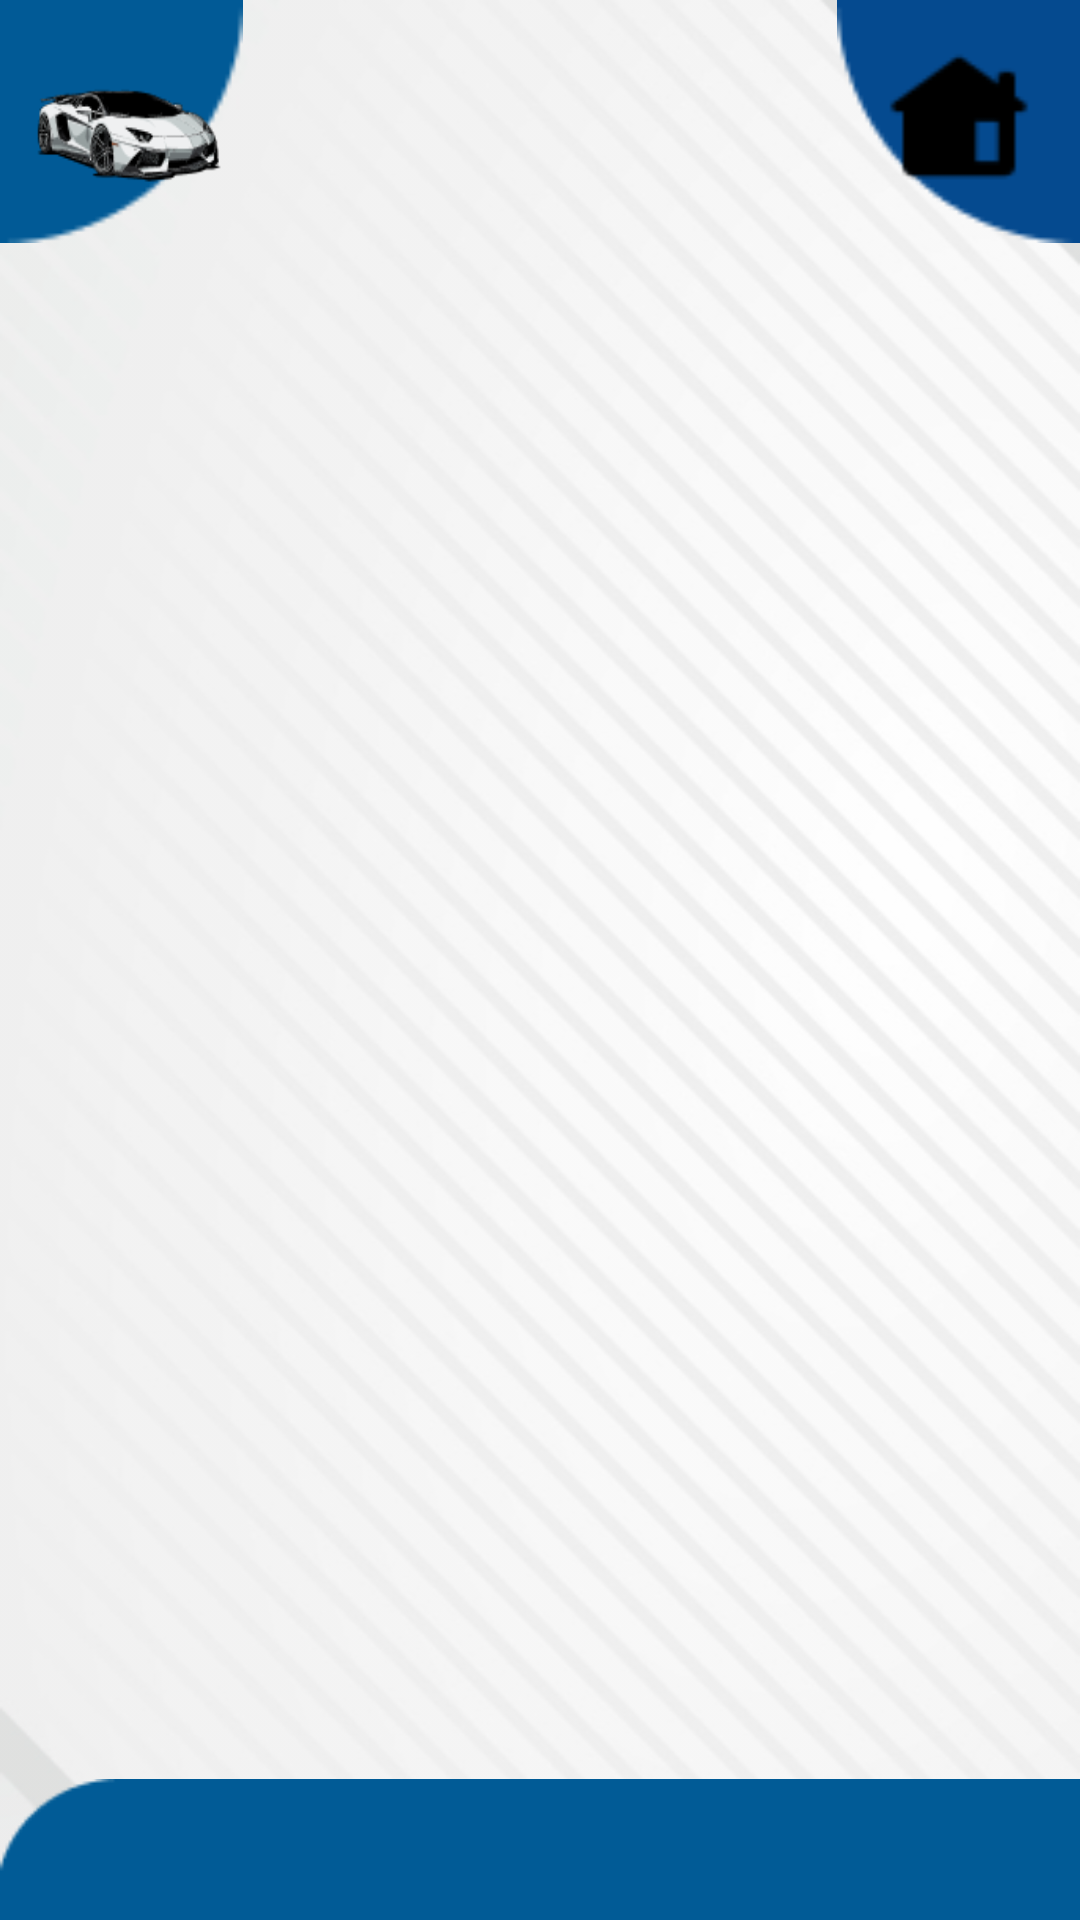

Icons on this 1080 × 1920 Android screen, each with the point to tap as (x,y):
car rsp: (131,140)
home: (951,128)
